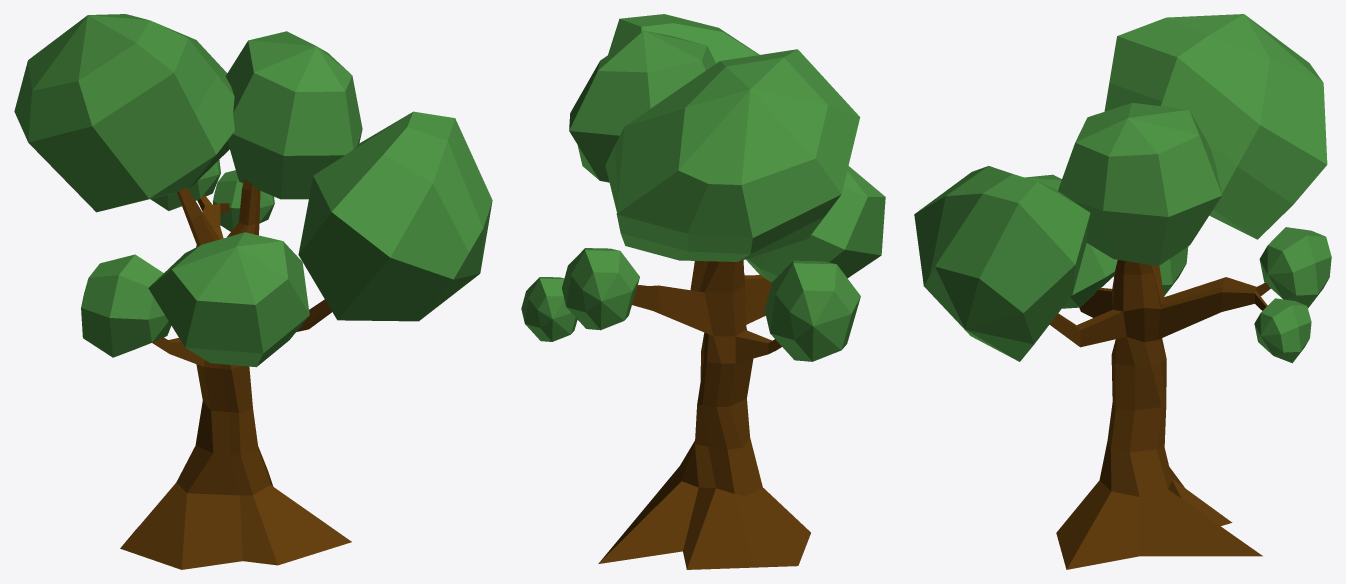
The model's file is Tree02.fbx.
3 renders of one model, left to right at view 1: azimuth 30°, elevation 25°; view 2: azimuth 150°, elevation 25°; view 3: azimuth 270°, elevation 25°, orthographic. The views are drawn at different scales.
Visible parts, largest first — view 1: Sphere, Cube; view 2: Sphere, Cube; view 3: Sphere, Cube.
Boxes of the visible parts, left/top/right/bottom form: Sphere: left=14, top=14, right=492, bottom=367; Cube: left=120, top=179, right=351, bottom=569; Sphere: left=521, top=14, right=885, bottom=361; Cube: left=598, top=260, right=810, bottom=569; Sphere: left=914, top=14, right=1331, bottom=363; Cube: left=1049, top=260, right=1270, bottom=569.
Bounding box in the file's own units: 99.94 × 139 × 110.
